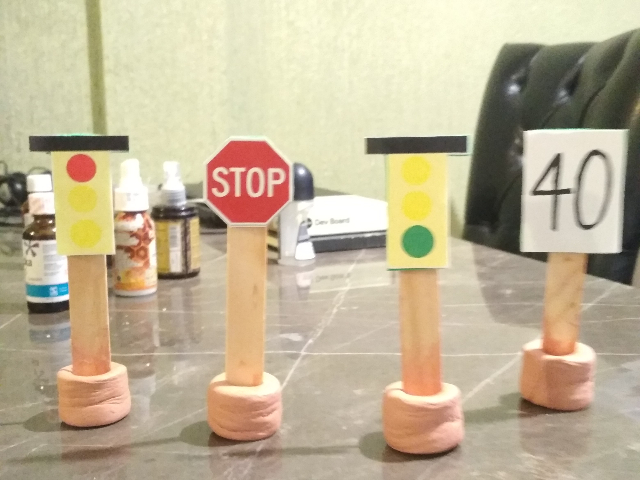Green Traffic Light: (362, 130, 471, 272)
Red Traffic Light: (27, 128, 133, 257)
Speed Limit 40: (515, 122, 633, 258)
Stop Sign: (200, 135, 298, 229)
